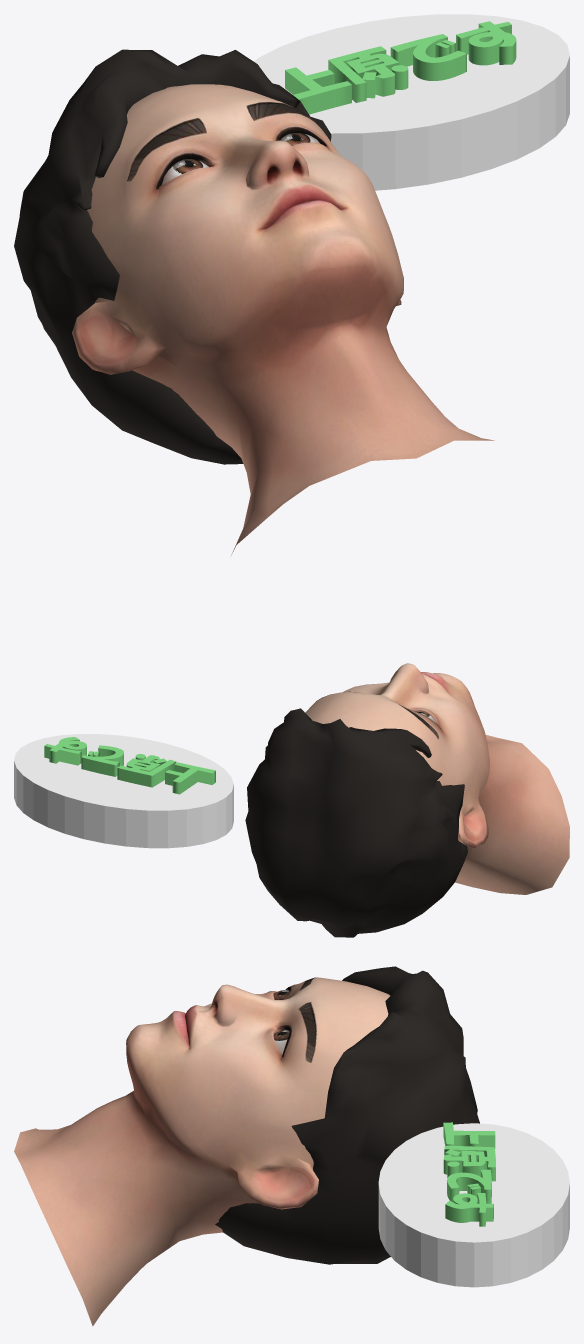
Rendered from asset.glb.
3 renders of one model, top to bottom at view 1: azimuth 30°, elevation 25°; view 2: azimuth 150°, elevation 25°; view 3: azimuth 270°, elevation 25°, orthographic. The views are drawn at different scales.
Parts seen in each view (by area): view 1: Wolf3D_Head, Wolf3D_Hair, 円柱.001, テキスト; view 2: Wolf3D_Hair, Wolf3D_Head, 円柱.001, テキスト; view 3: Wolf3D_Head, Wolf3D_Hair, 円柱.001, テキスト.
Boxes of the visible parts, x1=… form: Wolf3D_Head: x1=72, y1=84, x2=494, y2=555; Wolf3D_Hair: x1=14, y1=49, x2=331, y2=464; 円柱.001: x1=254, y1=14, x2=569, y2=190; テキスト: x1=285, y1=21, x2=516, y2=114; Wolf3D_Hair: x1=245, y1=708, x2=467, y2=937; Wolf3D_Head: x1=305, y1=663, x2=569, y2=894; 円柱.001: x1=14, y1=734, x2=233, y2=848; テキスト: x1=44, y1=737, x2=215, y2=794; Wolf3D_Head: x1=14, y1=977, x2=390, y2=1326; Wolf3D_Hair: x1=215, y1=966, x2=479, y2=1264; 円柱.001: x1=378, y1=1123, x2=569, y2=1287; テキスト: x1=443, y1=1122, x2=495, y2=1226.
Size of what is drawn, in the model's own units: 0.2673 by 0.1812 by 0.2805.
6 materials, 4 textured.
